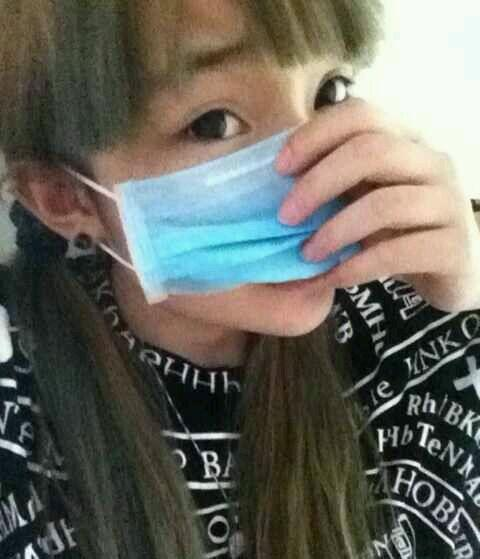WRONG: (110, 39, 393, 322)
